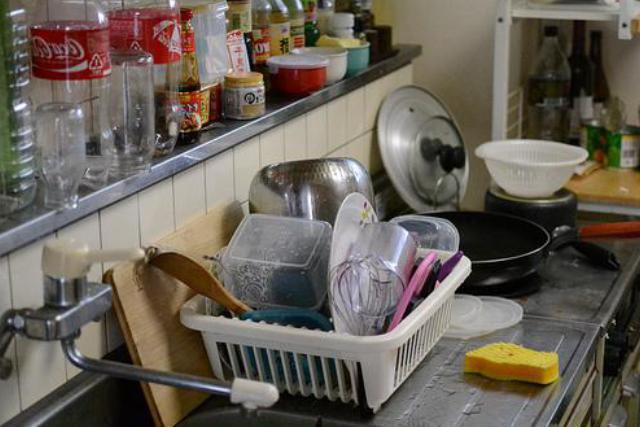Lavaplatos: (0, 216, 494, 427)
